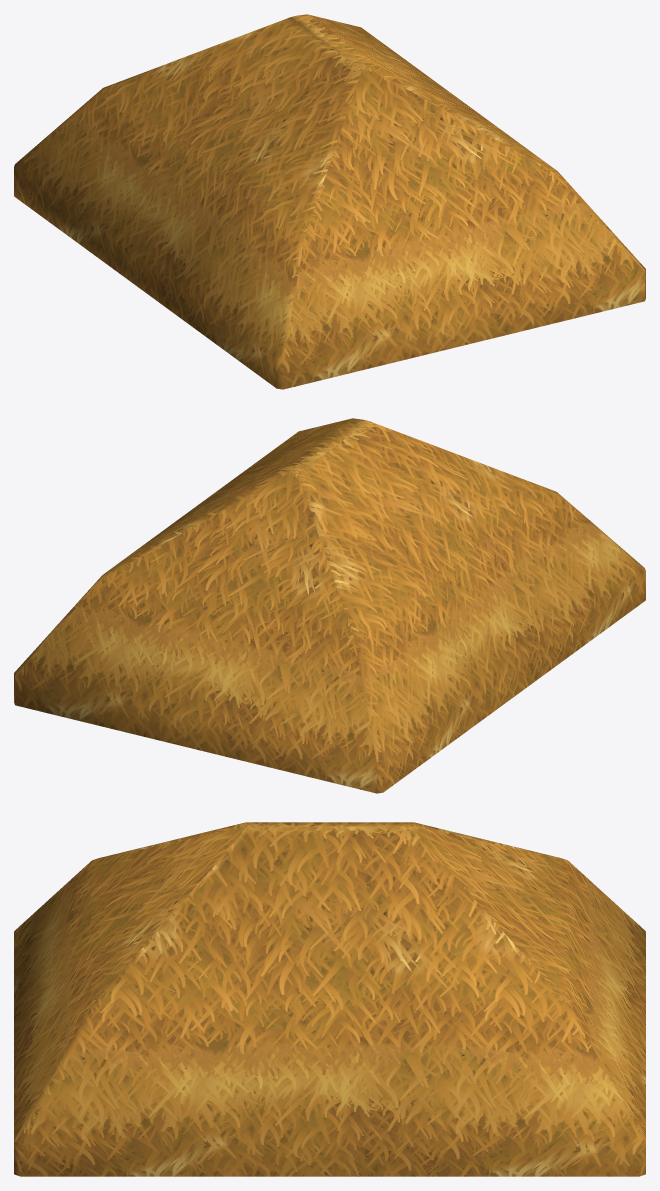
File: SimpleWall_0.fbx
The picture shows the model from 3 angles, top to bottom: view 1: azimuth 30°, elevation 25°; view 2: azimuth 150°, elevation 25°; view 3: azimuth 270°, elevation 25°; orthographic projection. The views are drawn at different scales.
Visible parts, largest first — view 1: Cube.055; view 2: Cube.055; view 3: Cube.055.
Part boxes in pixels (x1,y1,x2,y2): Cube.055: (14, 14, 645, 389); Cube.055: (14, 418, 645, 793); Cube.055: (14, 822, 645, 1176).
Size of the model in its own units: 16.11 by 8.54 by 20.24.
